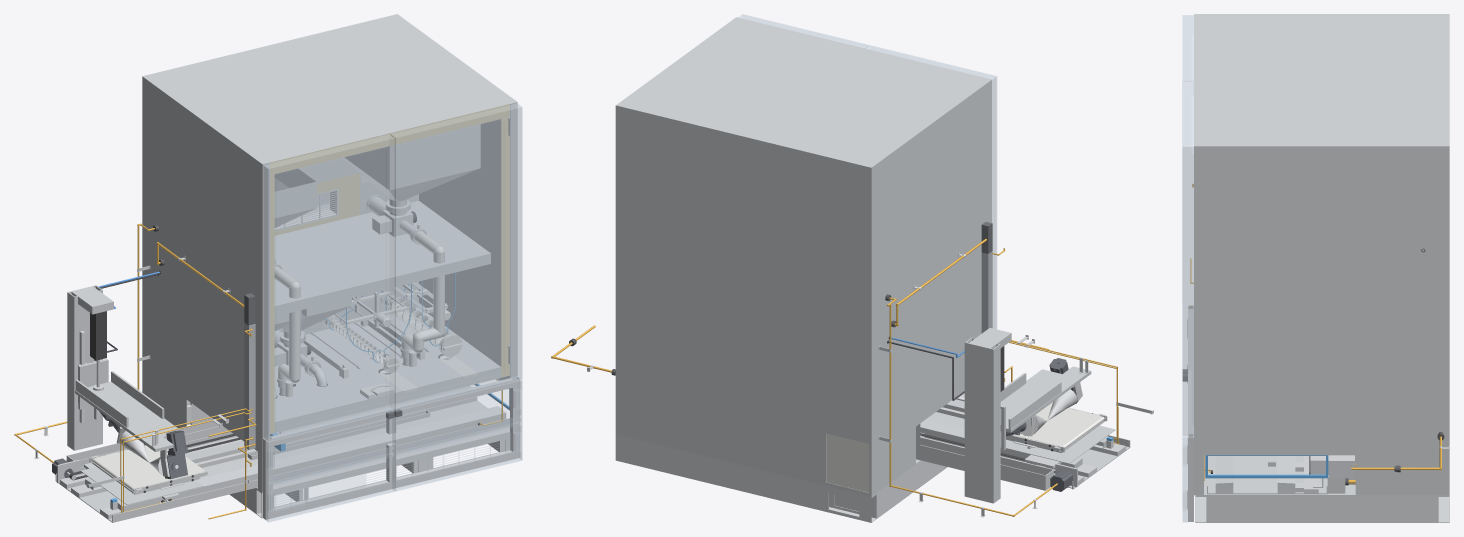
File: modul_C.glb
The picture shows the model from 3 angles, left to right: view 1: azimuth 30°, elevation 25°; view 2: azimuth 150°, elevation 25°; view 3: azimuth 270°, elevation 25°; orthographic projection. The views are drawn at different scales.
Parts seen in each view (by area): view 1: TOPPING_MODUL__on_seffaf, TOPPING_MODUL__sac, TOPPING_MODUL__paslanmaz, TOPPING_MODUL__celik, TOPPING_MODUL__yalitim_gorunur, TOPPING_MODUL__sac__ACICI, TOPPING_MODUL__hortum_gida, KAIDE_C__paslanmaz, TOPPING_MODUL__pom, ELK_TOPPING__kablo, TOPPING_MODUL__bant__TABLA, TOPPING_MODUL__pu (+10 smaller); view 2: TOPPING_MODUL__sac, KAIDE_C__paslanmaz, TOPPING_MODUL__sac__ACICI, TOPPING_MODUL__on_seffaf, ELK_TOPPING__kablo, TOPPING_MODUL__pom, TOPPING_MODUL__bant__TABLA, TOPPING_MODUL__sac__ARABA, TOPPING_MODUL__celik, ELK_TOPPING__kanal, ELK_TOPPING__celik; view 3: TOPPING_MODUL__sac, KAIDE_C__paslanmaz, TOPPING_MODUL__on_seffaf, TOPPING_MODUL__celik, TOPPING_MODUL__silikon, ELK_TOPPING__kablo.
Boxes of the visible parts, box(x1,y1,x2,y2) form: TOPPING_MODUL__on_seffaf: box(263, 103, 522, 522); TOPPING_MODUL__sac: box(55, 14, 517, 522); TOPPING_MODUL__paslanmaz: box(271, 117, 509, 433); TOPPING_MODUL__celik: box(60, 322, 520, 519); TOPPING_MODUL__yalitim_gorunur: box(270, 104, 509, 433); TOPPING_MODUL__sac__ACICI: box(75, 359, 180, 451); TOPPING_MODUL__hortum_gida: box(274, 231, 444, 382); KAIDE_C__paslanmaz: box(187, 400, 510, 518); TOPPING_MODUL__pom: box(275, 175, 477, 399); ELK_TOPPING__kablo: box(14, 223, 502, 519); TOPPING_MODUL__bant__TABLA: box(92, 445, 205, 490); TOPPING_MODUL__pu: box(274, 173, 359, 235); TOPPING_MODUL__sac: box(615, 17, 1130, 503); KAIDE_C__paslanmaz: box(615, 434, 947, 522); TOPPING_MODUL__sac__ACICI: box(1000, 366, 1091, 450); TOPPING_MODUL__on_seffaf: box(738, 14, 996, 399); ELK_TOPPING__kablo: box(551, 239, 1119, 516); TOPPING_MODUL__pom: box(826, 433, 868, 492); TOPPING_MODUL__bant__TABLA: box(1013, 404, 1104, 448); TOPPING_MODUL__sac__ARABA: box(1006, 425, 1115, 463); TOPPING_MODUL__celik: box(920, 407, 1125, 484); ELK_TOPPING__kanal: box(981, 251, 992, 333); ELK_TOPPING__celik: box(587, 252, 1153, 517); TOPPING_MODUL__sac: box(1194, 14, 1449, 495); KAIDE_C__paslanmaz: box(1195, 495, 1449, 522); TOPPING_MODUL__on_seffaf: box(1182, 15, 1193, 522); TOPPING_MODUL__celik: box(1187, 305, 1354, 521); TOPPING_MODUL__silikon: box(1205, 455, 1328, 478); ELK_TOPPING__kablo: box(1190, 184, 1441, 483).
Bounding box in the file's own units: 2.05 × 1.41 × 0.909.
